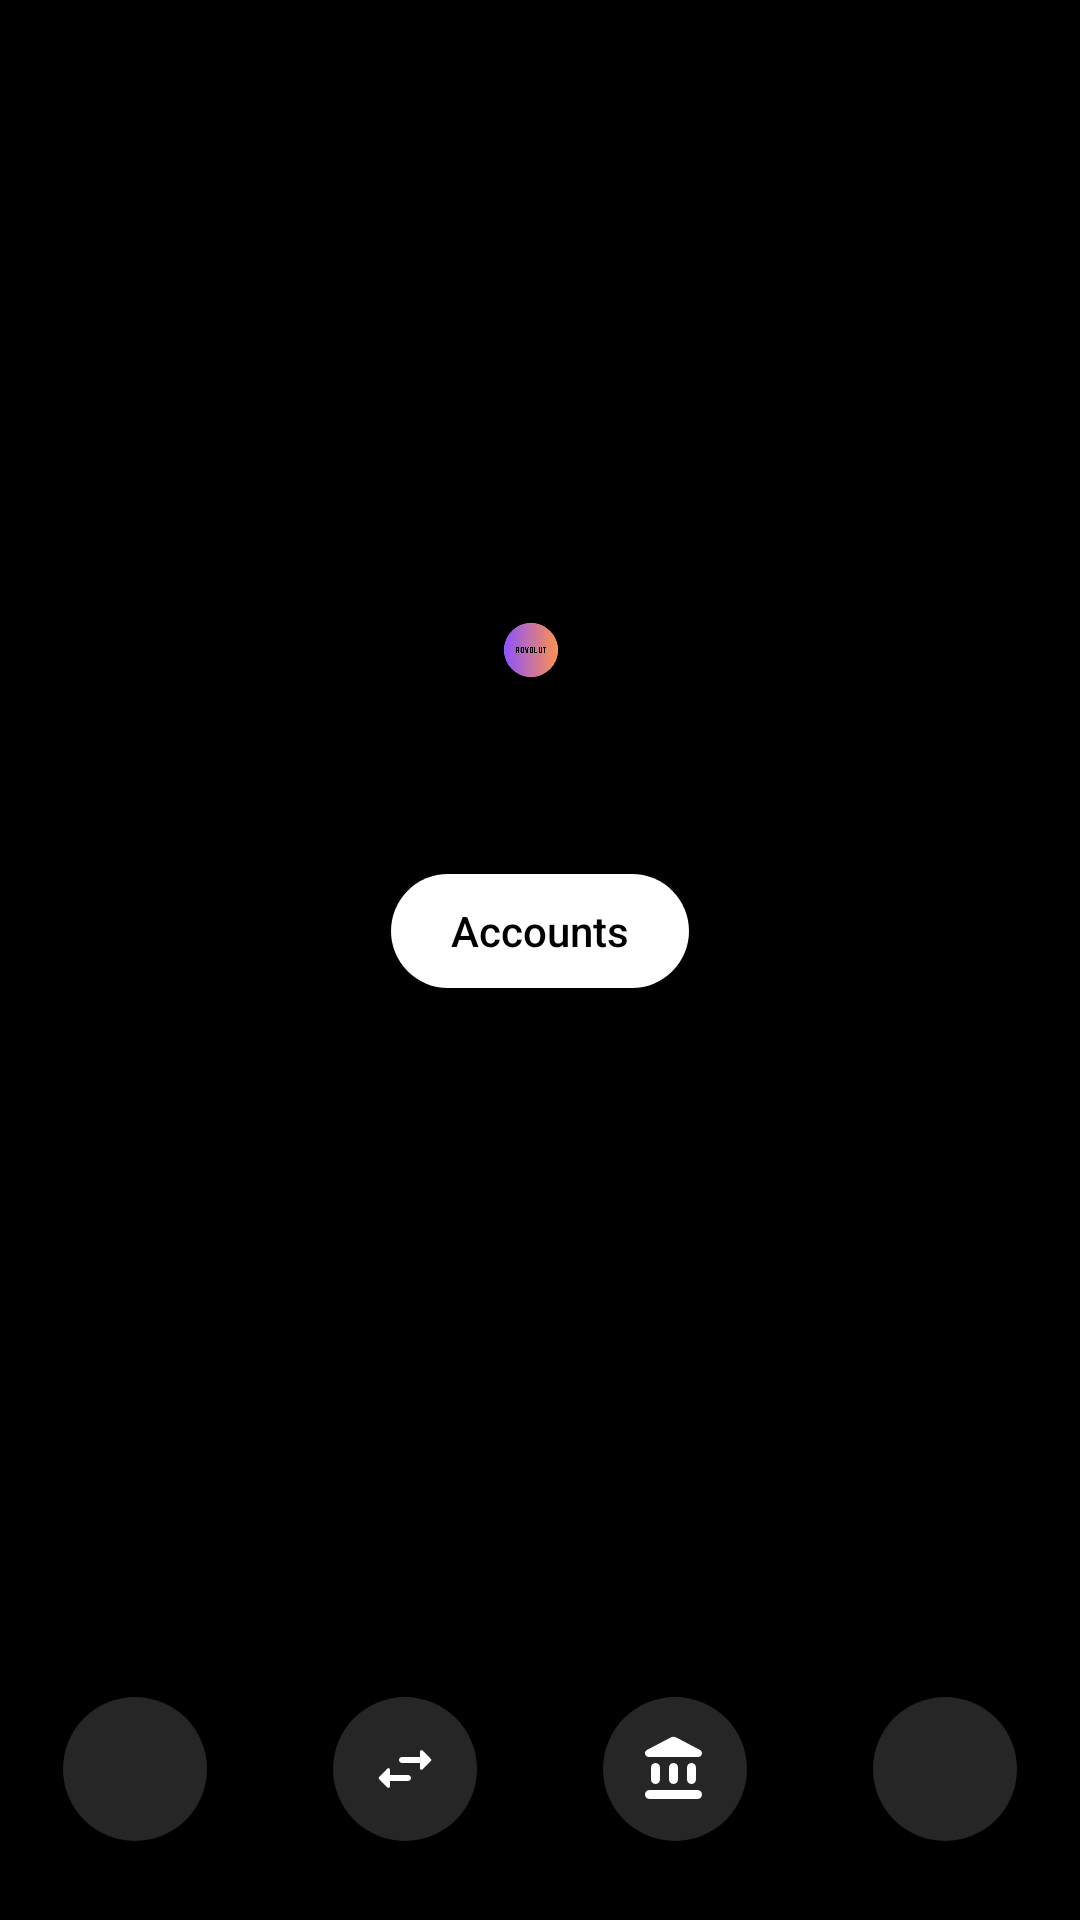

Icon bounding boxes for this 1080x1920 phone screenshot, format (x1, y1, x2, y2):
bank: (603, 1697, 747, 1841)
payment: (333, 1697, 477, 1841)
